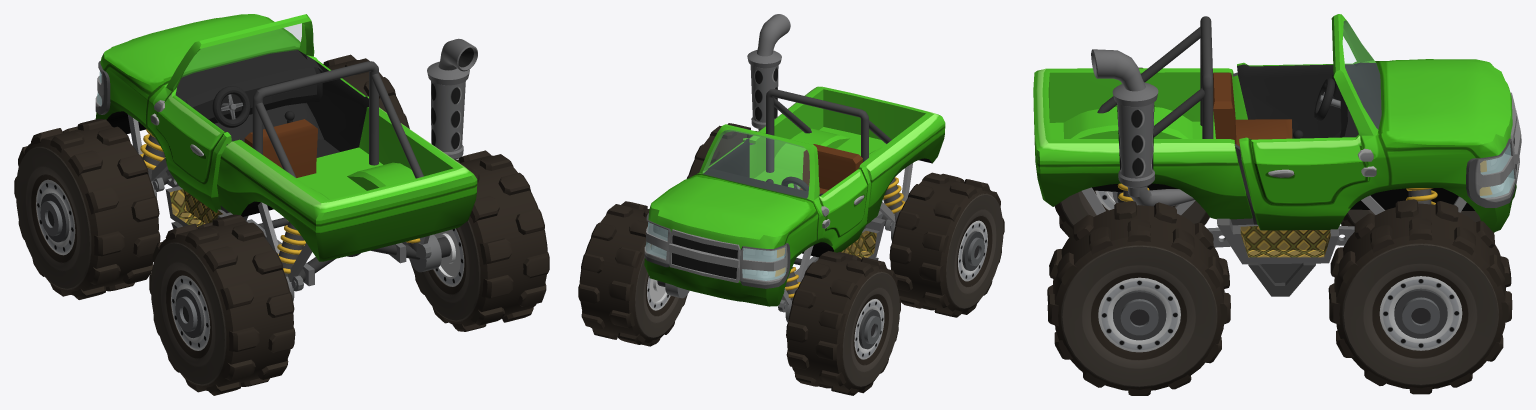
The model's file is monstertruck.glb.
3 views of the same model, side by side, from view 1: azimuth 30°, elevation 25°; view 2: azimuth 150°, elevation 25°; view 3: azimuth 270°, elevation 25° (orthographic). The views are drawn at different scales.
Parts seen in each view (by area): view 1: Object_6, Object_36, Object_4; view 2: Object_6, Object_36, Object_4, Object_20; view 3: Object_6, Object_36, Object_4, Object_20.
Boxes of the visible parts, left/top/right/bottom form: Object_6: left=95, top=14, right=477, bottom=300; Object_36: left=14, top=54, right=549, bottom=395; Object_4: left=182, top=23, right=301, bottom=76; Object_6: left=644, top=14, right=945, bottom=322; Object_36: left=578, top=123, right=1004, bottom=395; Object_4: left=703, top=130, right=809, bottom=198; Object_20: left=645, top=222, right=785, bottom=280; Object_6: left=1033, top=14, right=1521, bottom=296; Object_36: left=1047, top=67, right=1512, bottom=395; Object_4: left=1343, top=21, right=1381, bottom=128; Object_20: left=1479, top=144, right=1514, bottom=197.
Bounding box in the file's own units: 1.27 × 1.07 × 1.5.
Materials: 4 (2 with a texture image).
